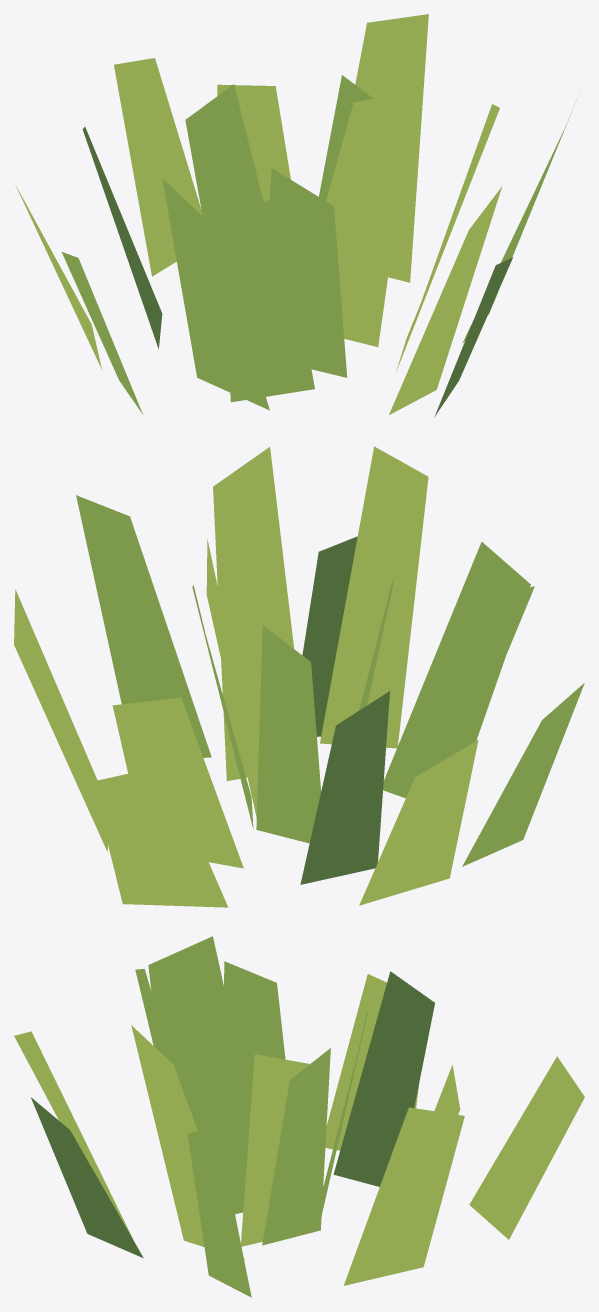
File: SM_Grass_Clump_B.fbx
The picture shows the model from 3 angles, top to bottom: view 1: azimuth 30°, elevation 25°; view 2: azimuth 150°, elevation 25°; view 3: azimuth 270°, elevation 25°; orthographic projection. The views are drawn at different scales.
Parts seen in each view (by area): view 1: SM_Grass_Clump_B; view 2: SM_Grass_Clump_B; view 3: SM_Grass_Clump_B.
Boxes of the visible parts, x1=… form: SM_Grass_Clump_B: x1=14, y1=14, x2=576, y2=417; SM_Grass_Clump_B: x1=14, y1=446, x2=584, y2=907; SM_Grass_Clump_B: x1=14, y1=936, x2=584, y2=1297.
Bounding box in the file's own units: 0.53 × 0.278 × 0.5875.
